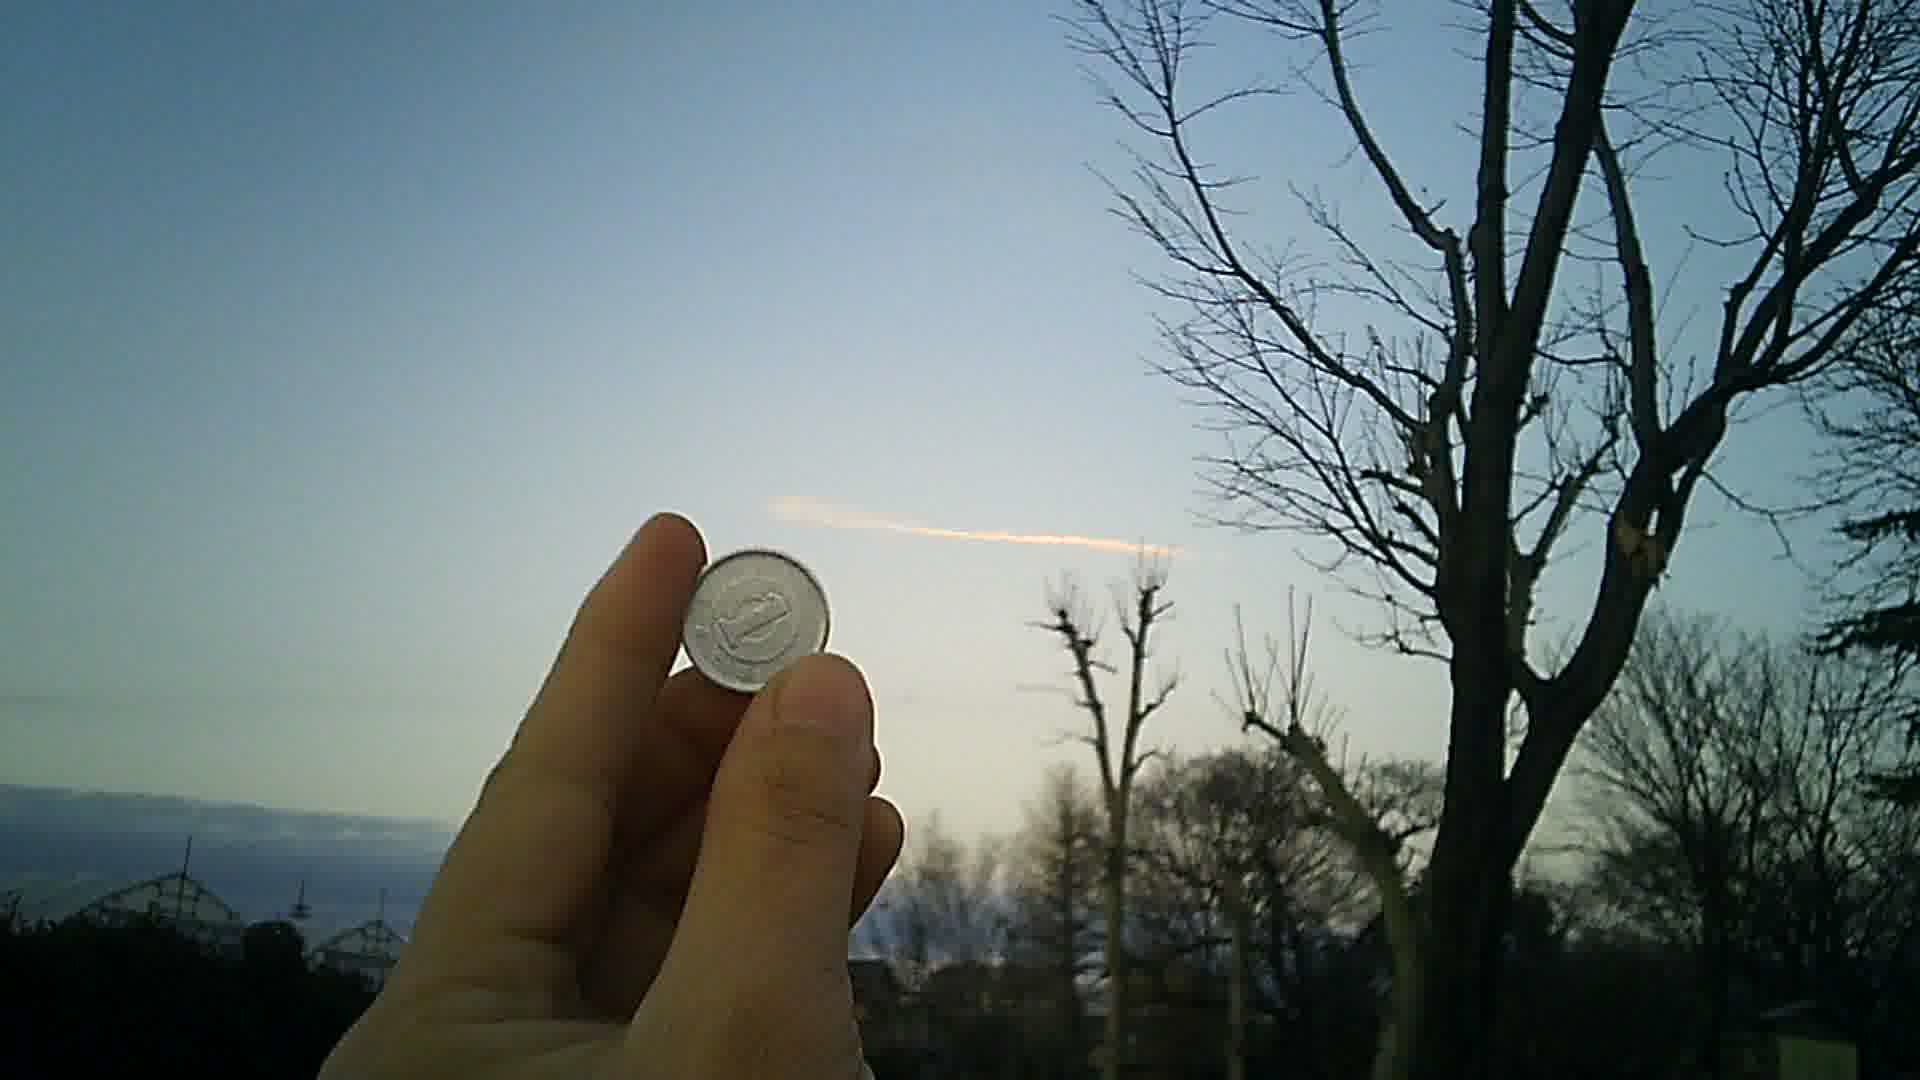1 Yen: (673, 538, 839, 698)
